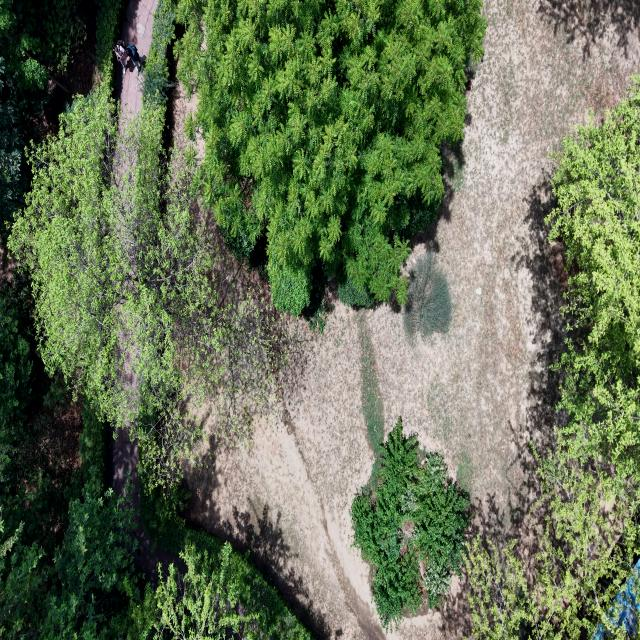DRY_AREA: (185, 0, 639, 639), (185, 410, 383, 639), (108, 428, 184, 582), (108, 429, 184, 583), (108, 428, 181, 582), (108, 429, 180, 580), (37, 1, 98, 135), (536, 0, 639, 56), (113, 60, 142, 248), (113, 59, 142, 246), (113, 60, 142, 234), (113, 60, 142, 214), (113, 60, 142, 213), (113, 64, 142, 213), (166, 78, 204, 159), (120, 0, 156, 54), (0, 243, 14, 281)
PATHWAYS: (108, 428, 182, 581)
VEGETATION_TREE: (0, 0, 484, 639), (0, 2, 310, 639), (9, 2, 283, 483), (0, 288, 310, 639), (176, 0, 484, 322), (467, 78, 639, 639), (122, 1, 284, 485), (122, 1, 285, 439), (0, 411, 310, 639), (0, 285, 140, 639), (0, 284, 137, 639), (122, 189, 285, 487), (8, 1, 121, 412), (8, 86, 125, 417), (547, 80, 639, 486), (467, 450, 639, 639), (0, 438, 142, 639), (137, 486, 310, 639), (350, 418, 468, 629), (0, 0, 84, 221), (3, 285, 90, 489), (147, 533, 310, 639), (0, 0, 83, 93), (0, 287, 31, 474), (403, 251, 451, 342), (358, 317, 383, 489)
